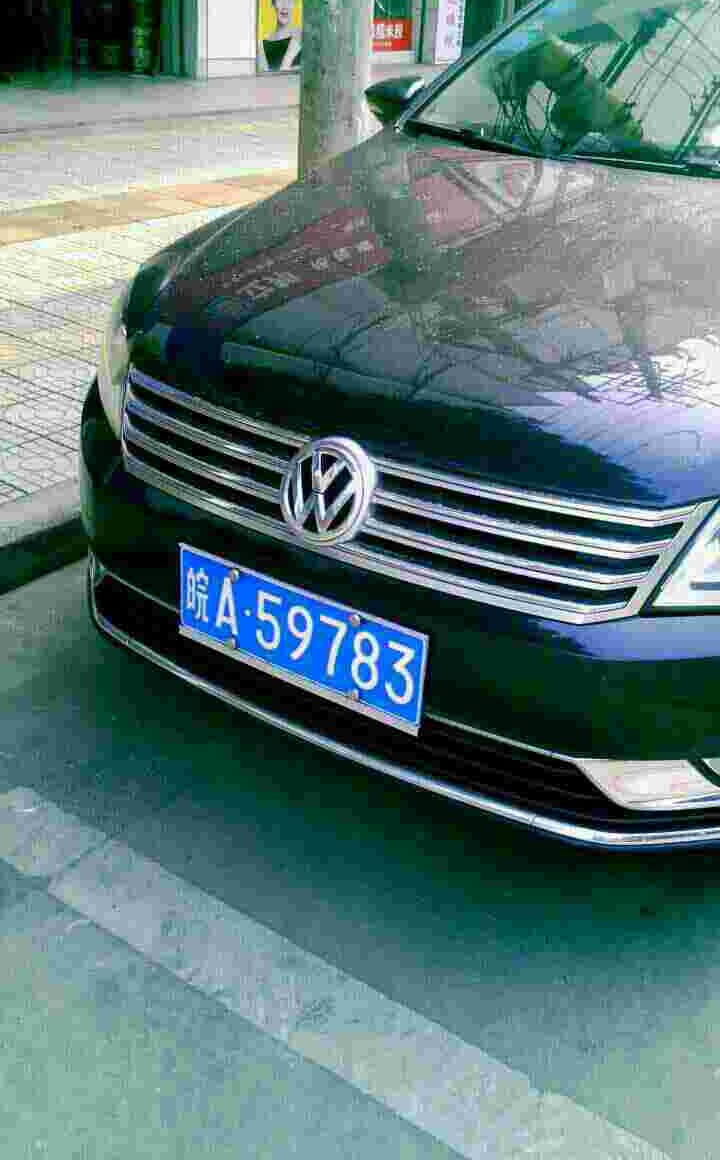license_plate: (184, 539, 420, 718)
